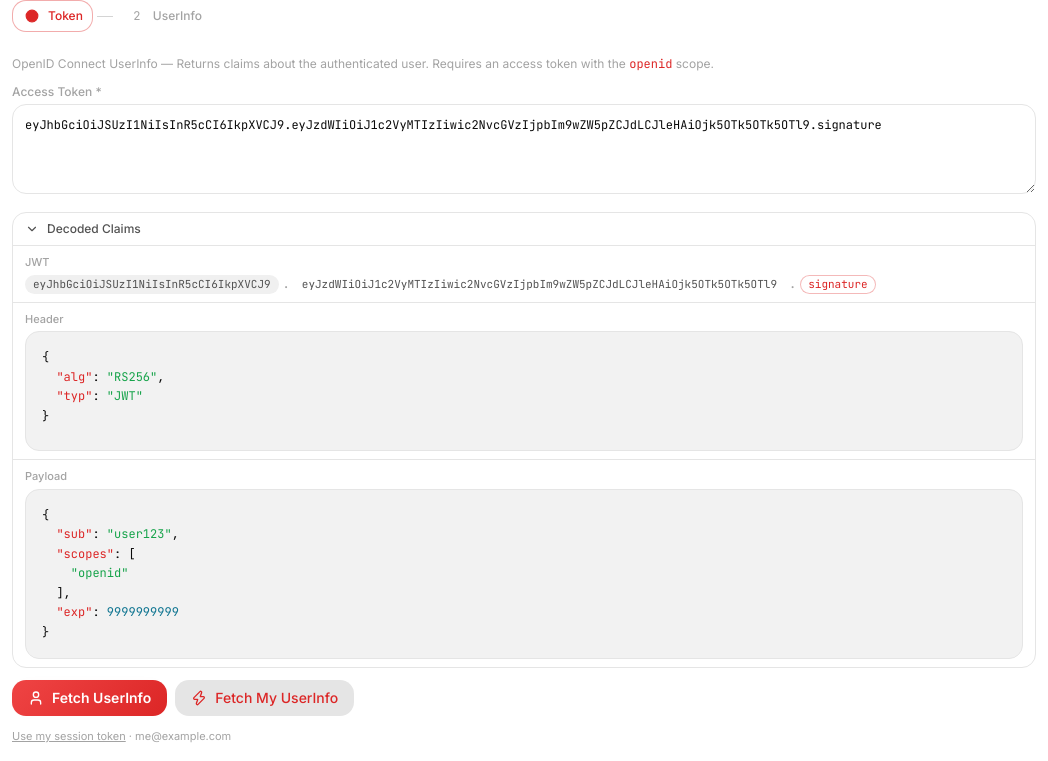
Scenario: UserInfoFlow — interactions › fetches my user info from the stored token
This screenshot has width=1048, height=761.
What coordinates should you click on to do the following:
click the button "Fetch My UserInfo"
I would click on:
 (265, 698)
Its box is x1=175 y1=680 x2=354 y2=716.
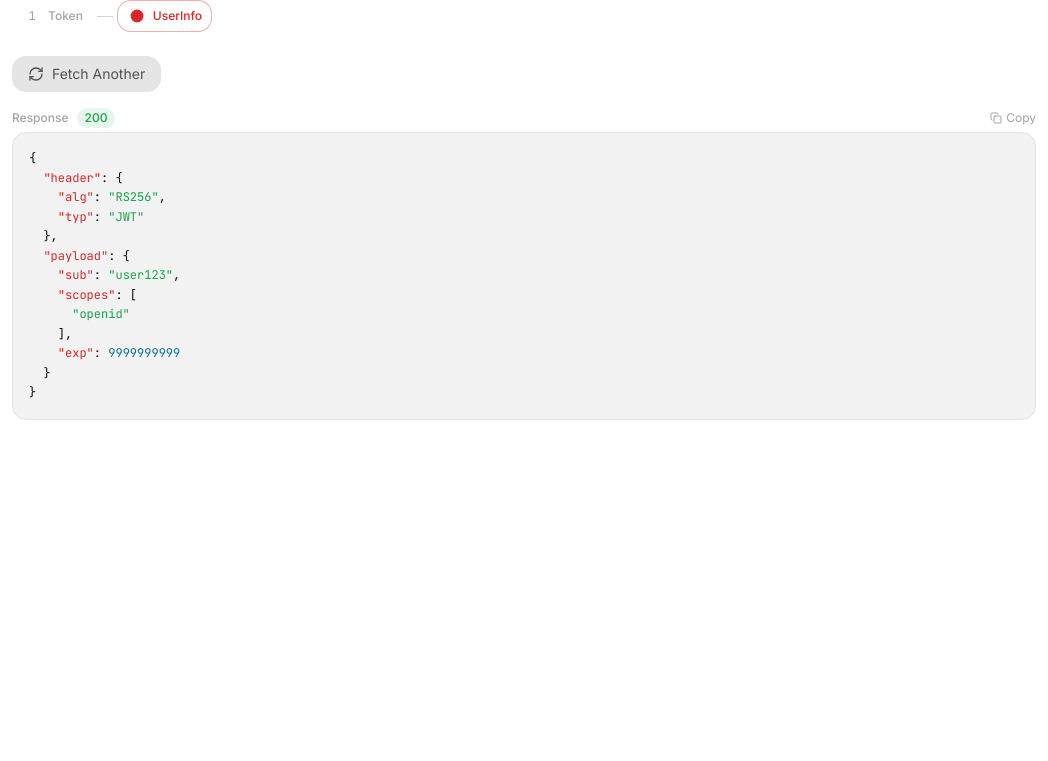
Check: the button "Fetch Another" is shown, box x1=12 y1=56 x2=161 y2=92
